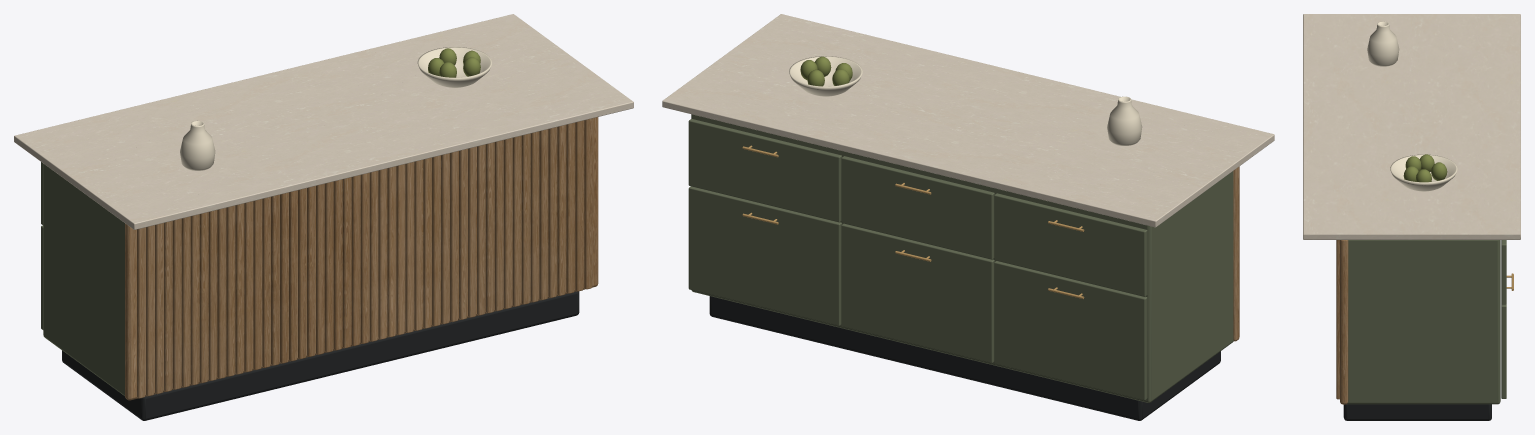
The model's file is kitchen-island.glb.
The picture shows the model from 3 angles, left to right: view 1: azimuth 30°, elevation 25°; view 2: azimuth 150°, elevation 25°; view 3: azimuth 270°, elevation 25°; orthographic projection. The views are drawn at different scales.
Parts seen in each view (by area): view 1: Satin quarter-cut oak, Honed warm stone, Matte olive laminate, Charcoal fittings, Glazed ivory ceramic, Green pear skin; view 2: Matte olive laminate, Honed warm stone, Charcoal fittings, Glazed ivory ceramic, Satin quarter-cut oak, Green pear skin, Satin antique brass; view 3: Honed warm stone, Matte olive laminate, Charcoal fittings, Glazed ivory ceramic, Satin quarter-cut oak, Green pear skin.
Part boxes in pixels (x1,y1,x2,y2): Satin quarter-cut oak: (125,117,598,400); Honed warm stone: (14,14,633,229); Matte olive laminate: (41,162,124,395); Charcoal fittings: (62,291,579,420); Glazed ivory ceramic: (180,47,492,170); Green pear skin: (428,48,480,77); Matte olive laminate: (688,114,1233,402); Honed warm stone: (662,14,1274,227); Charcoal fittings: (709,296,1220,420); Glazed ivory ceramic: (789,56,1142,145); Satin quarter-cut oak: (1233,166,1239,341); Green pear skin: (800,56,852,86); Satin antique brass: (742,145,1084,298); Honed warm stone: (1303,14,1520,239); Matte olive laminate: (1347,240,1506,404); Charcoal fittings: (1343,404,1491,420); Glazed ivory ceramic: (1367,21,1457,191); Satin quarter-cut oak: (1336,240,1348,404); Green pear skin: (1403,154,1447,182).
Bounding box in the file's own units: 2.18 × 1.1 × 0.91.
7 materials, 2 textured.
